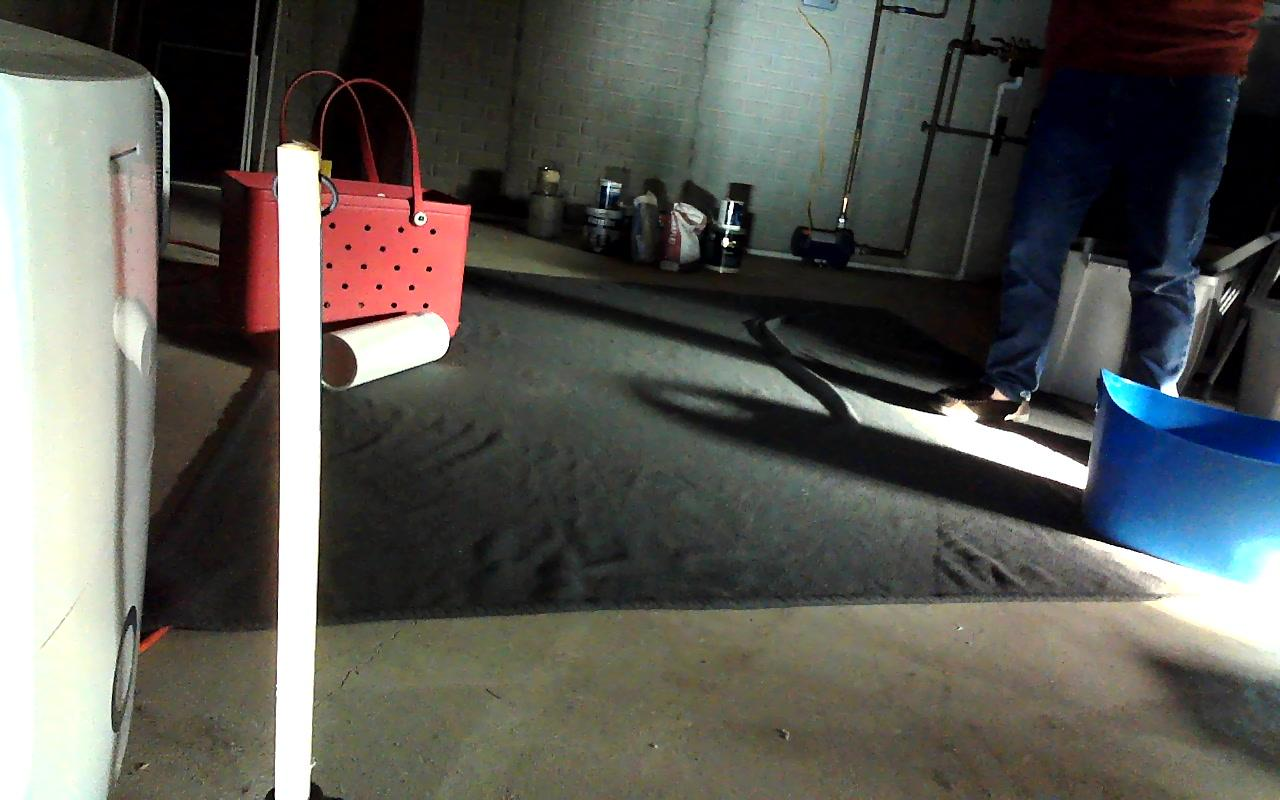coral: (320, 310, 450, 391)
